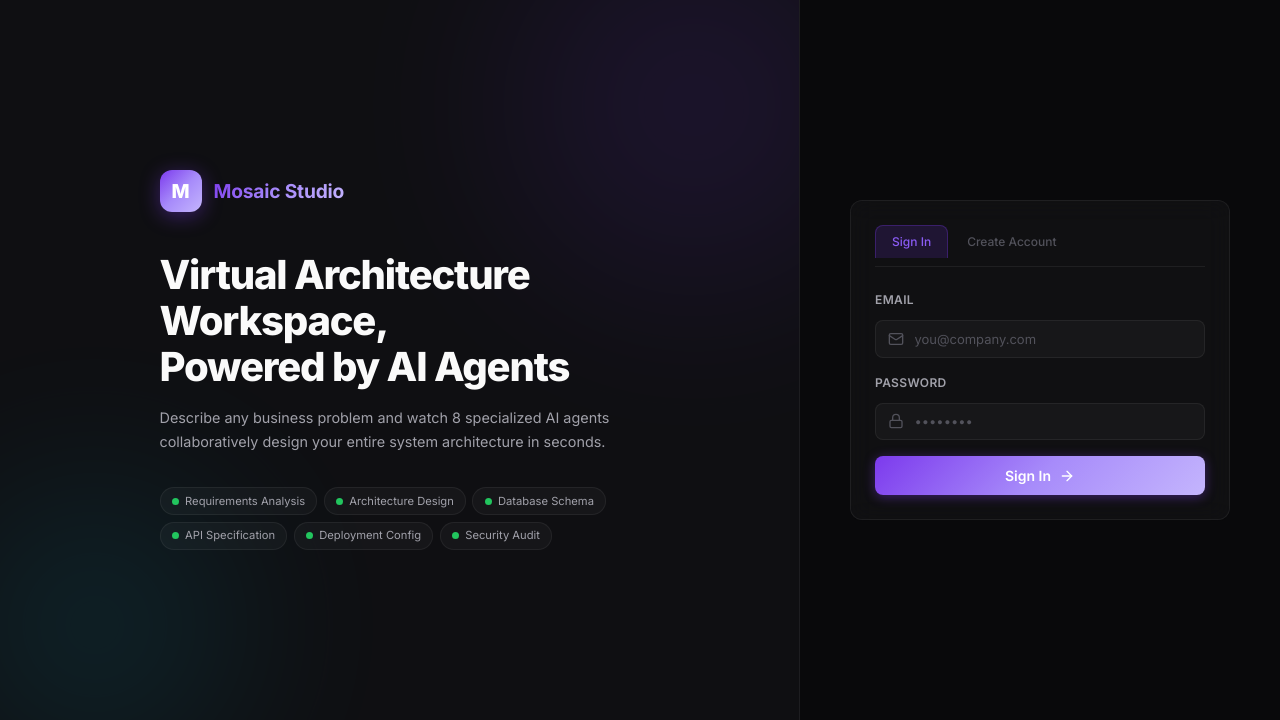
AuthPage › displays error message on failed login
Type "bad@test.com" into the field with placeholder "you@company.com" at {"x": 1040, "y": 339}, box [875, 320, 1205, 358]
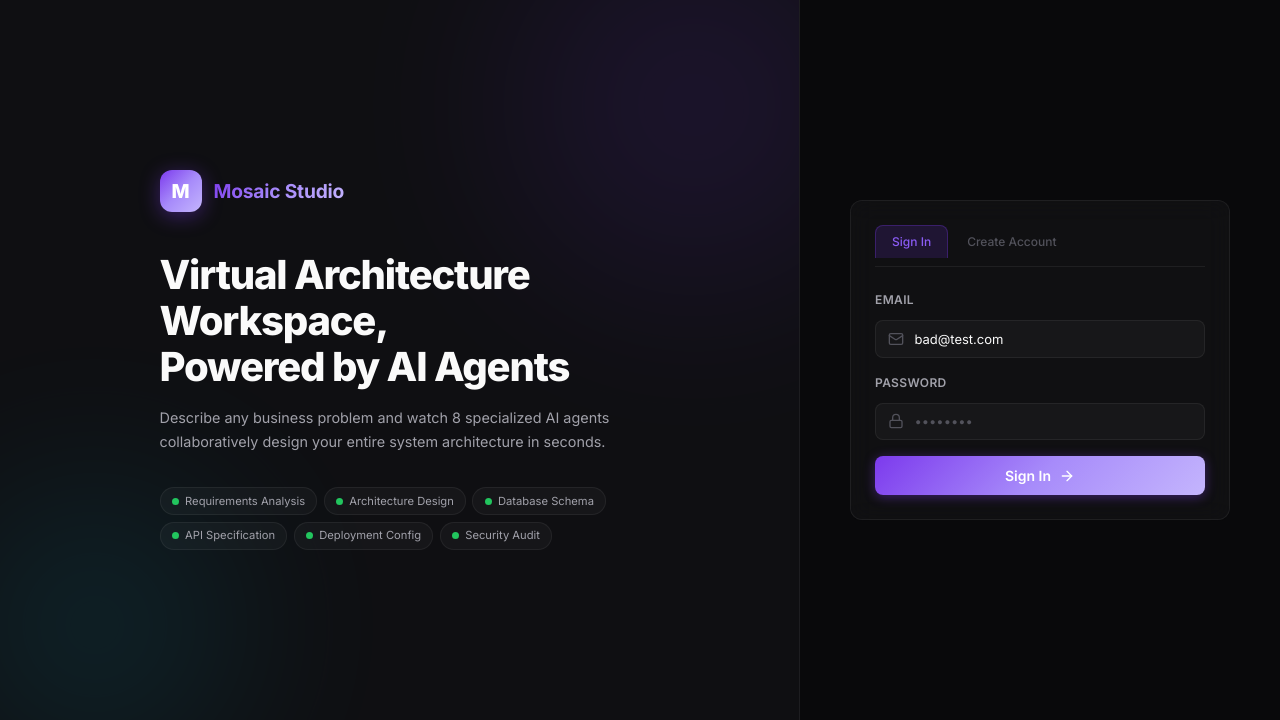
Type "wrong" into the password field with placeholder "••••••••" at {"x": 1040, "y": 421}, box [875, 403, 1205, 440]
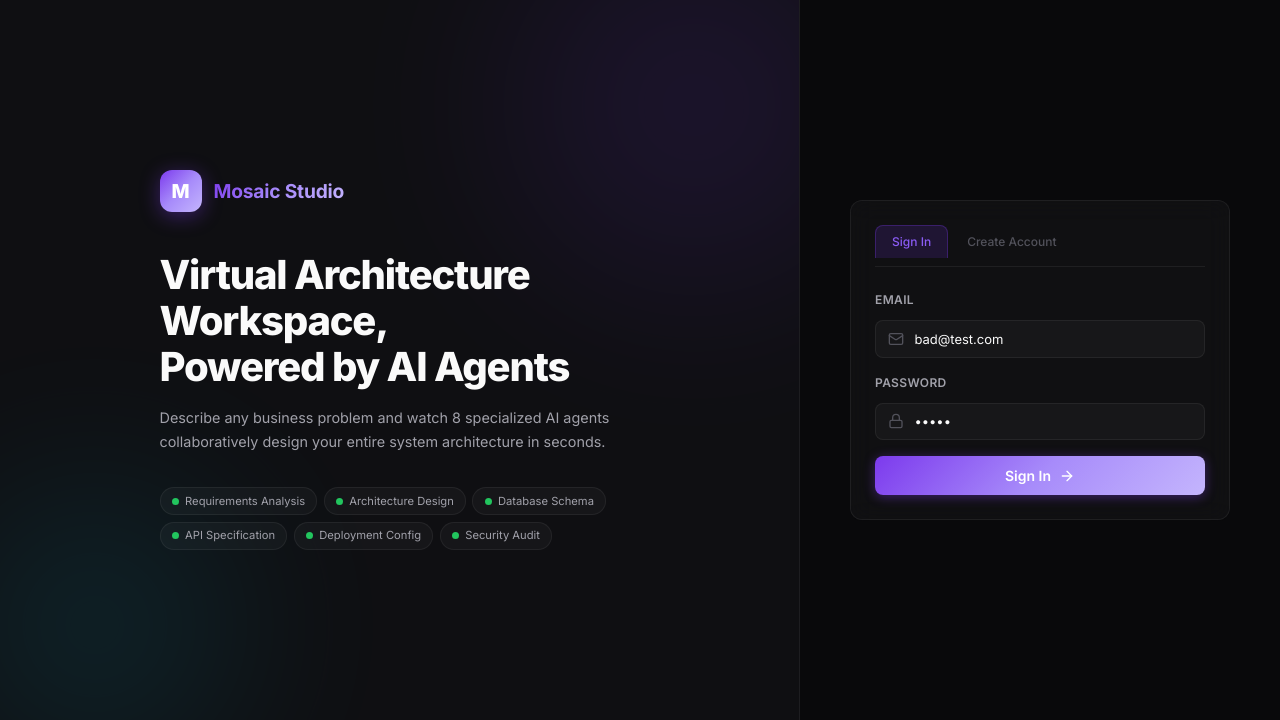
Click the button "Sign In" below "Password" at {"x": 1040, "y": 476}, box [875, 456, 1205, 495]
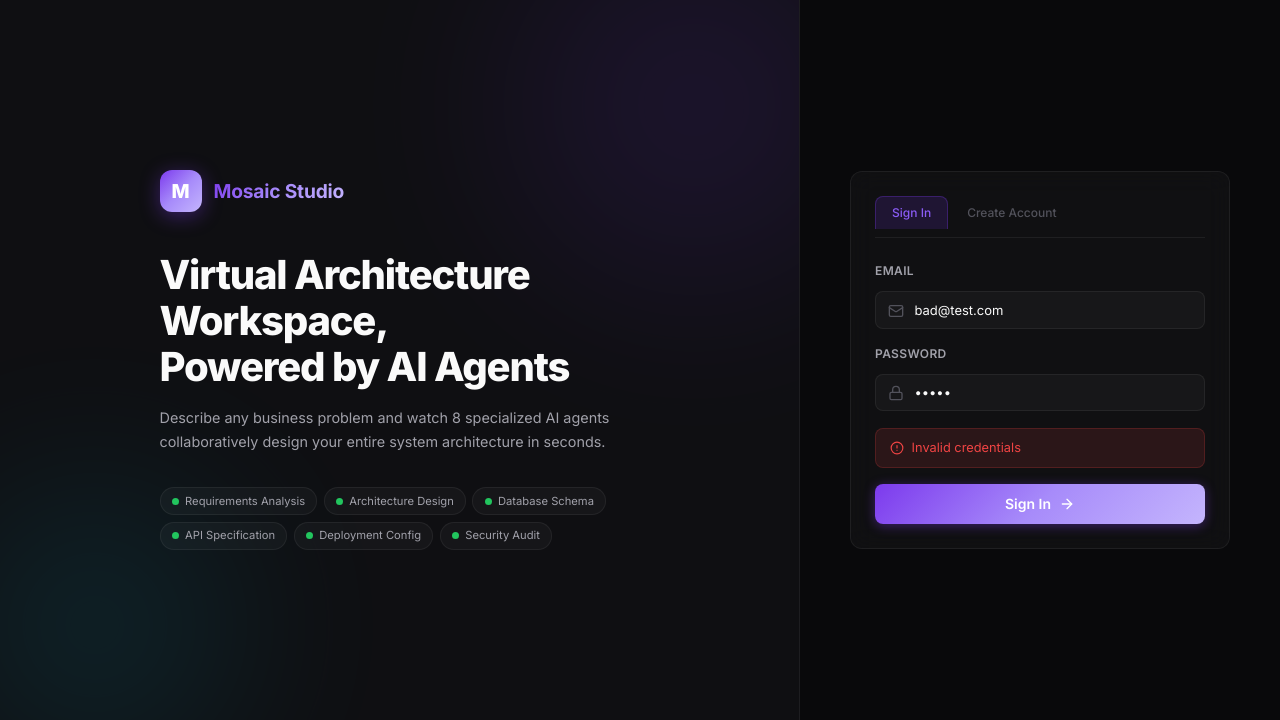
Check: the text "Invalid credentials" is shown, box [875, 428, 1205, 468]
